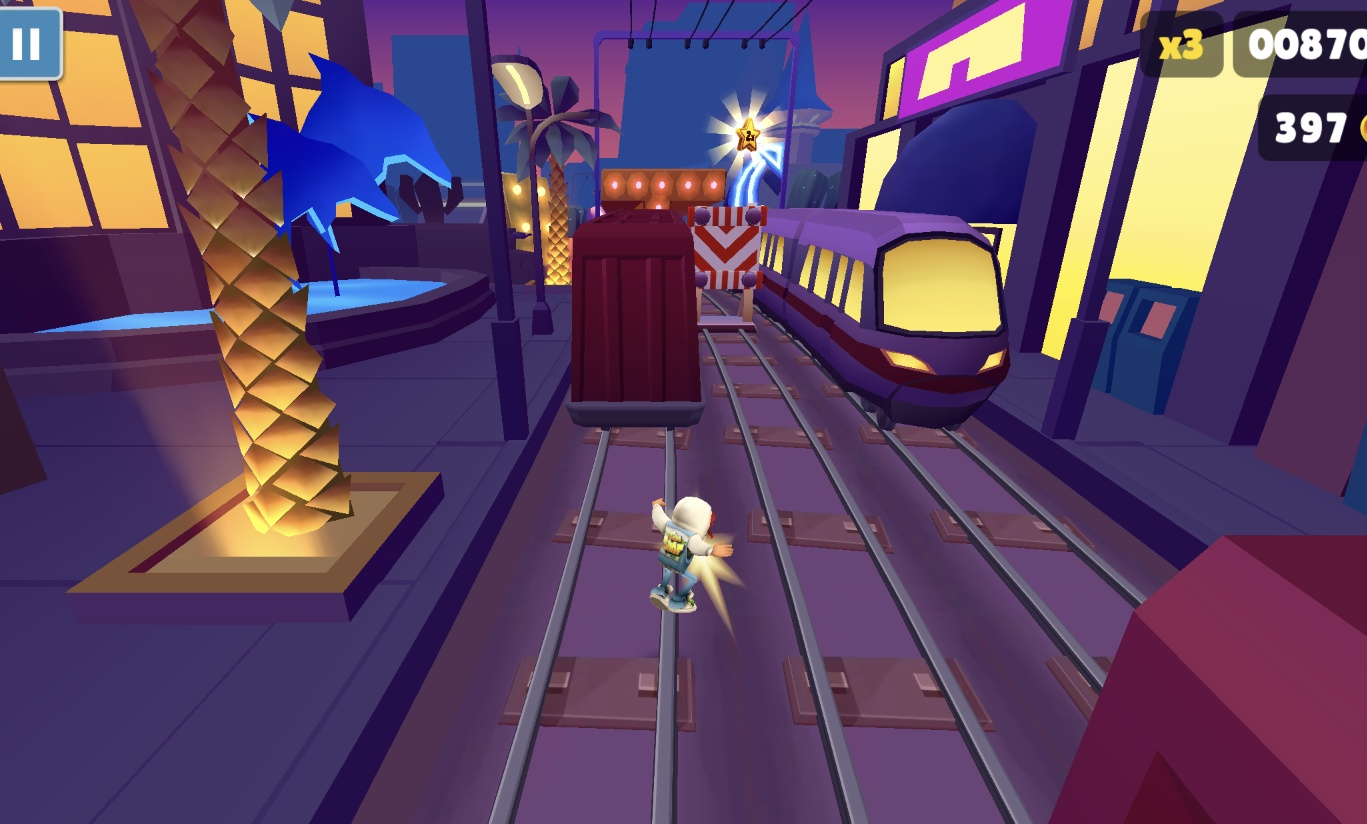overhead_barrier: (692, 204, 766, 341)
train: (1060, 535, 1367, 824), (757, 209, 1011, 438), (568, 207, 710, 434)
